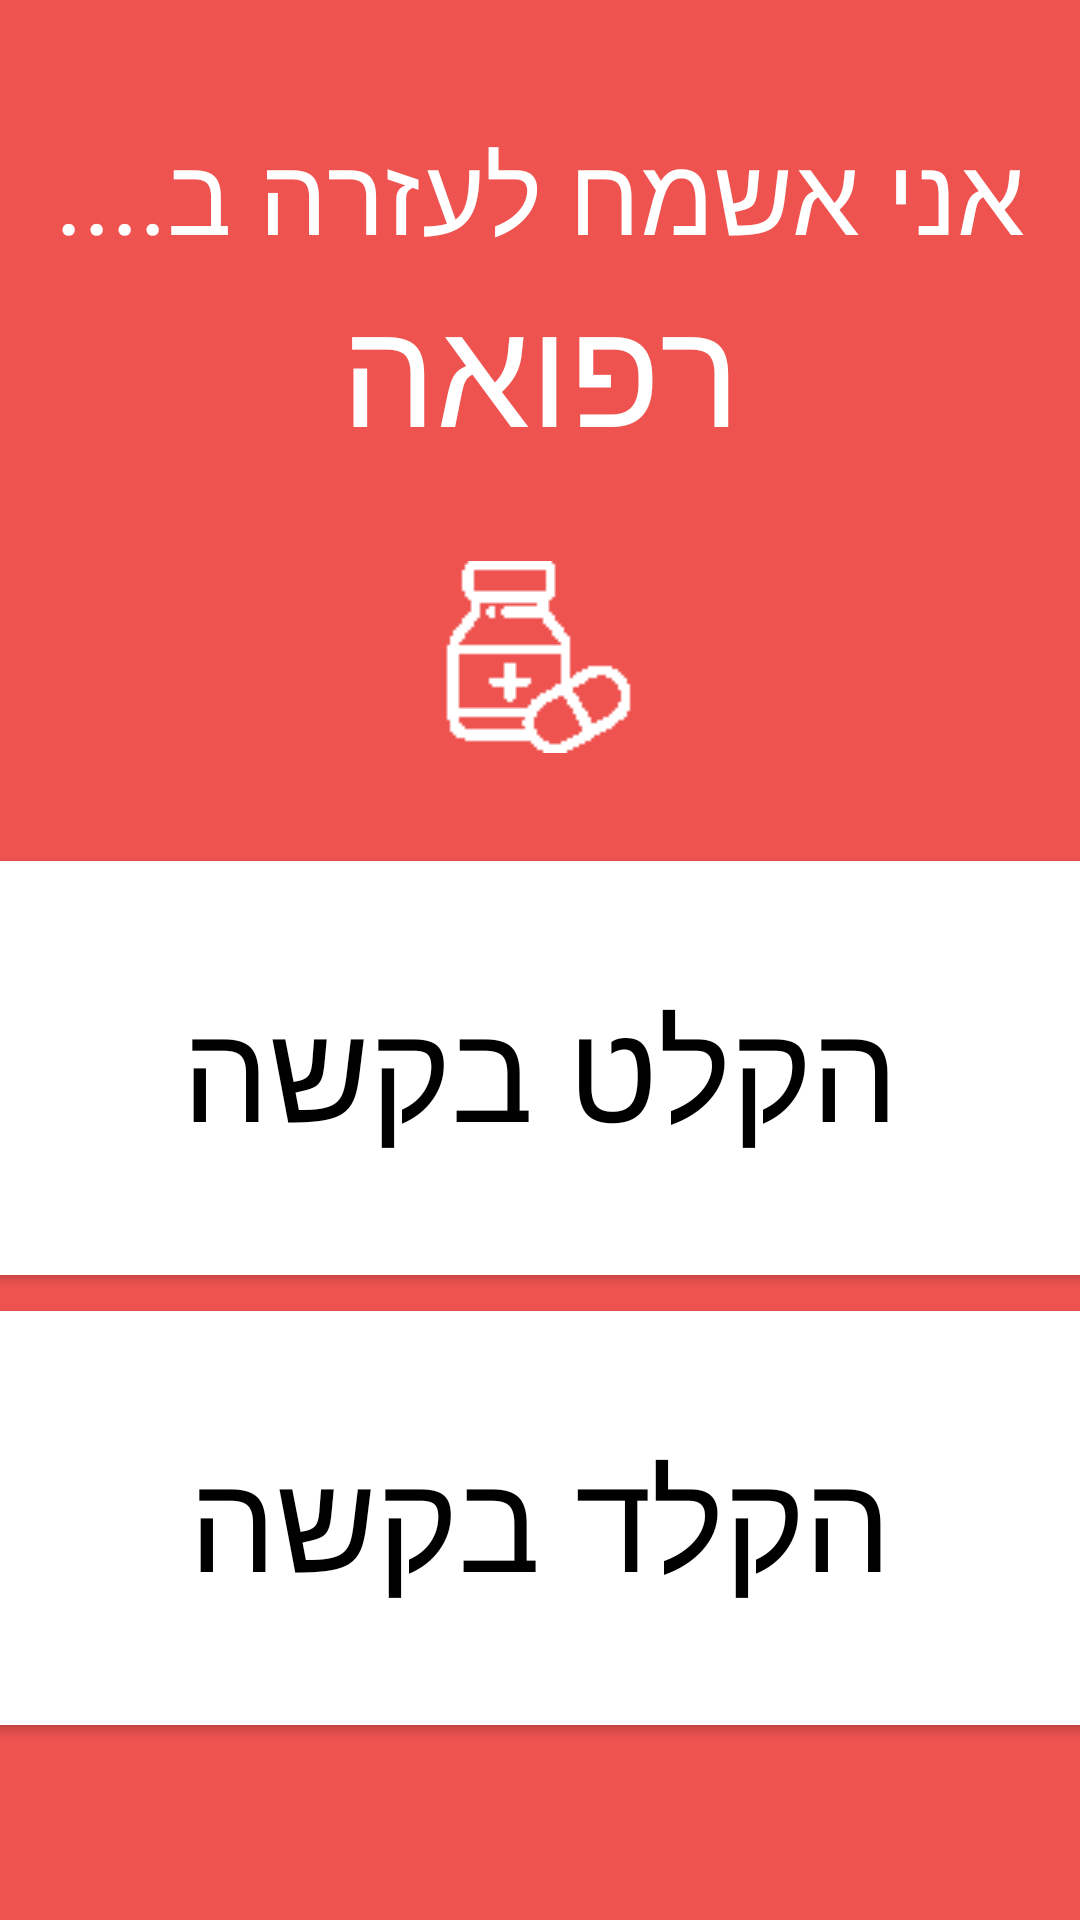

Icons on this 1080px×1920px Android screen, each with the point to tap as (x,y):
medicinewhite: (538,657)
